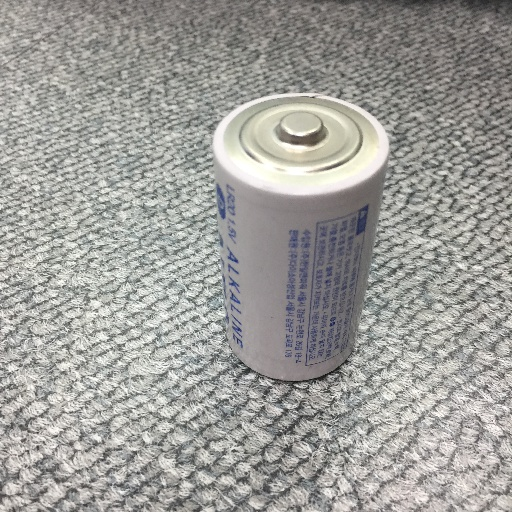Battery_0: (206, 84, 397, 380)
